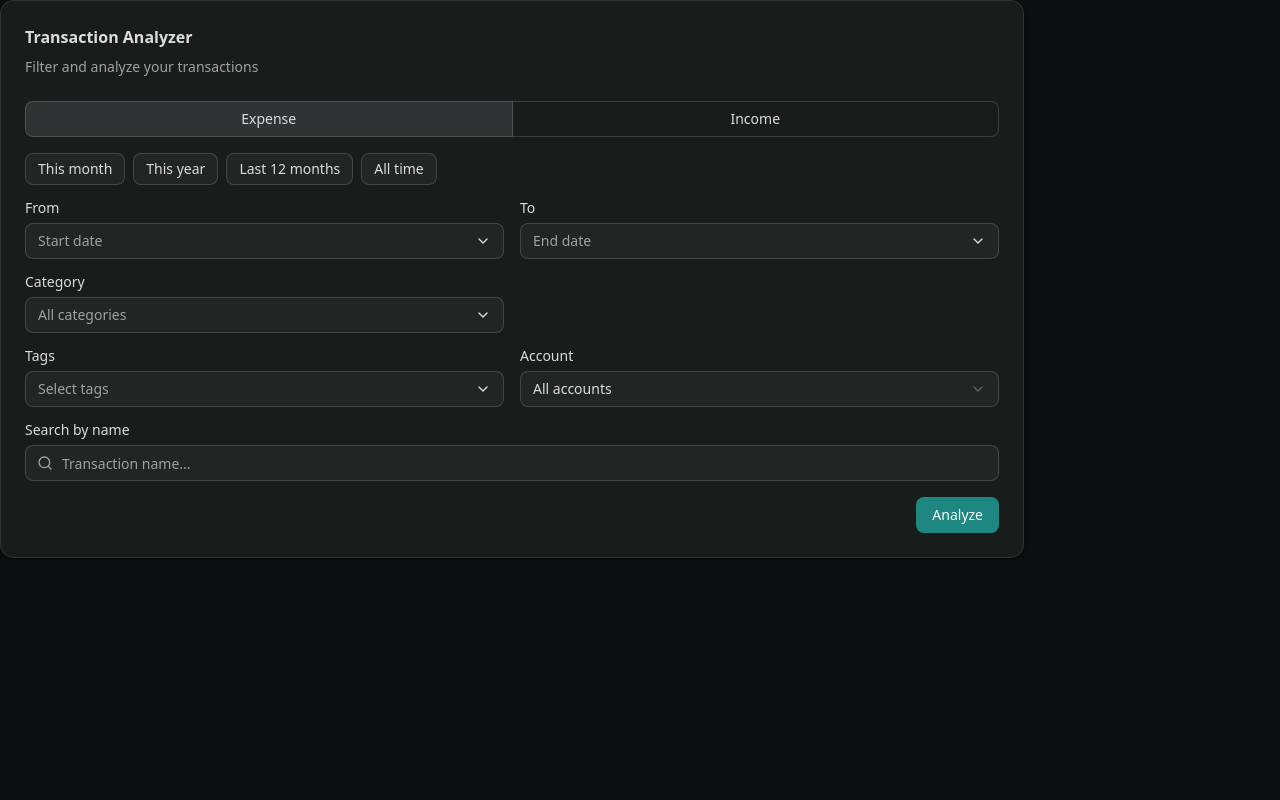
Test: TransactionAnalyzer › error state › renders a Retry button in the error state
What coordinates should you click on to do the following:
click the button "Analyze"
I would click on:
 (958, 515)
Its box is [916,497,999,533].
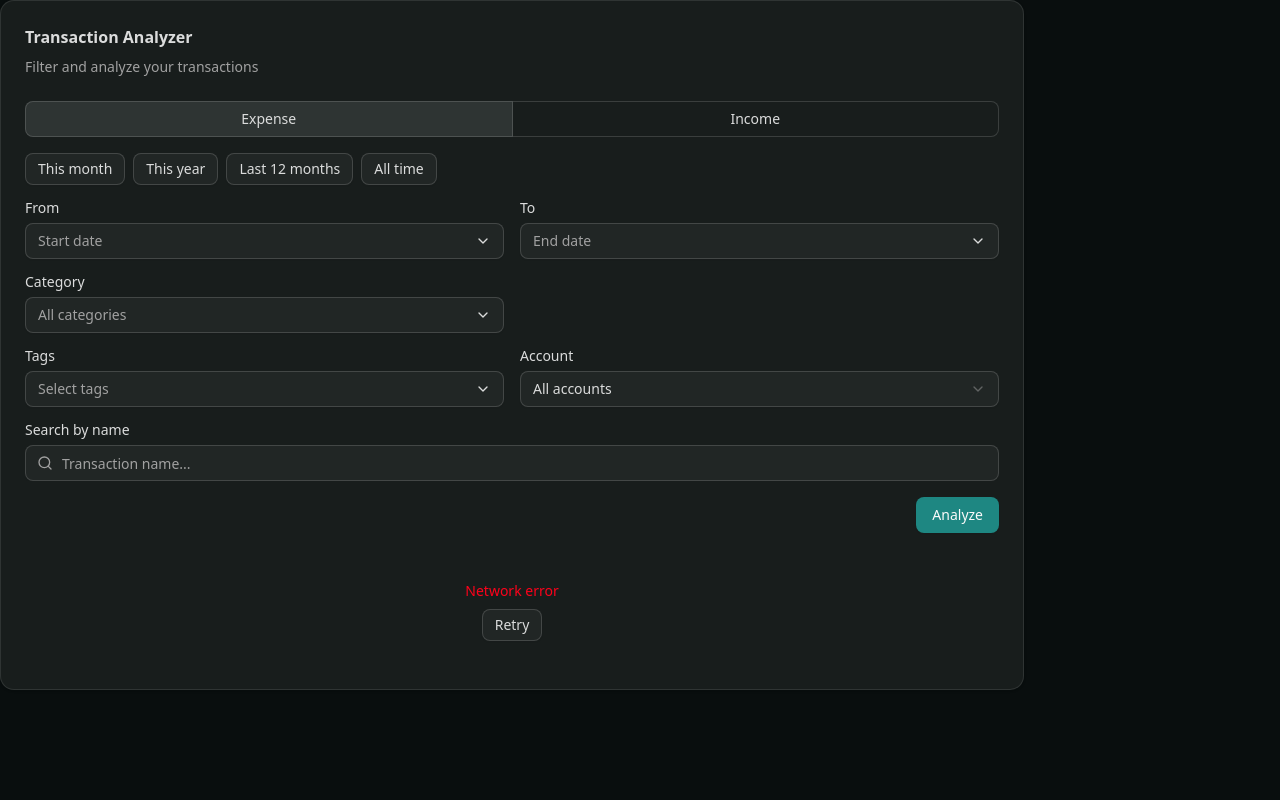
Check: the button "Retry" is shown, box [482,609,542,641]
